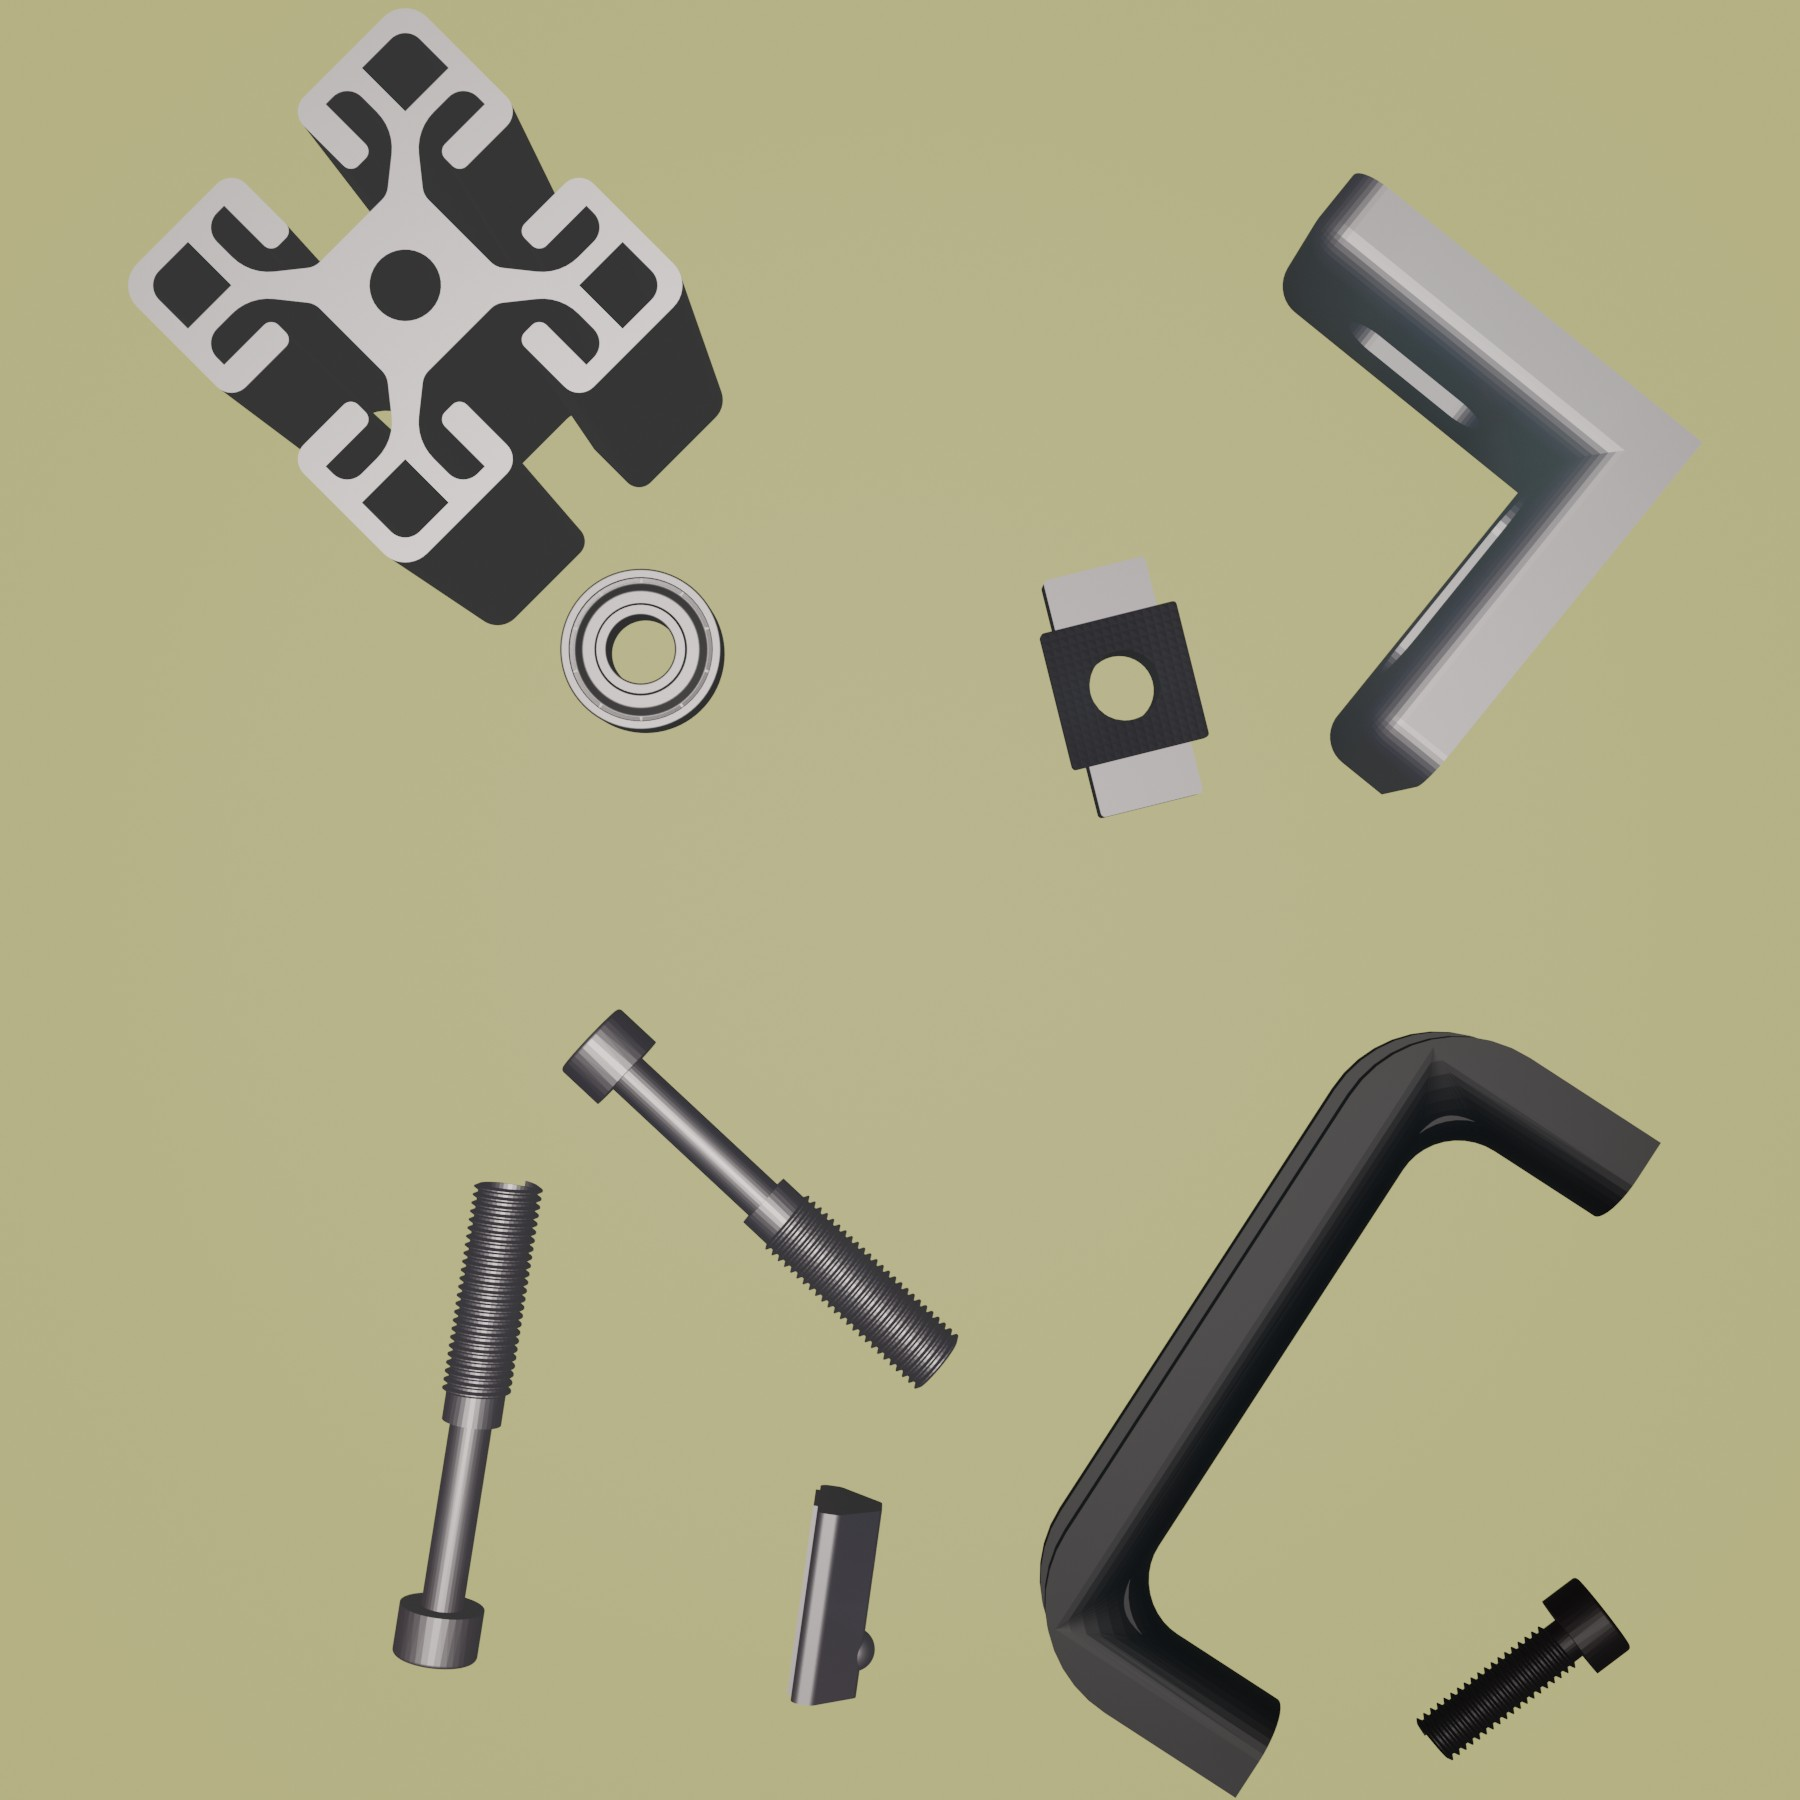Aluminium Extension: (124, 3, 724, 626)
Ball Bearing: (559, 565, 727, 735)
Multiwinkel: (1279, 170, 1699, 796)
Pull Handle: (1038, 1030, 1662, 1800)
Shoulder Socket Head Cap Screw: (559, 1007, 961, 1391), (389, 1175, 547, 1671)
Socket Head Cap Screw: (1413, 1573, 1634, 1764)
T Nut Square: (1037, 559, 1213, 823)
T Spring Nut: (786, 1480, 884, 1709)
